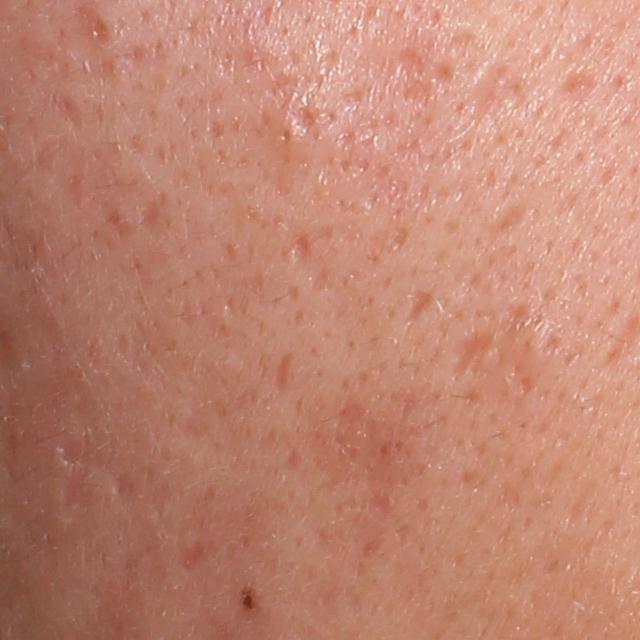atrophic_scar: (468, 64, 523, 119), (450, 330, 495, 378), (270, 342, 308, 393), (403, 285, 440, 329), (492, 199, 530, 237), (49, 92, 84, 131), (87, 9, 115, 48), (140, 197, 165, 234), (293, 103, 317, 135), (289, 233, 305, 262)
nevus: (237, 589, 258, 614)
